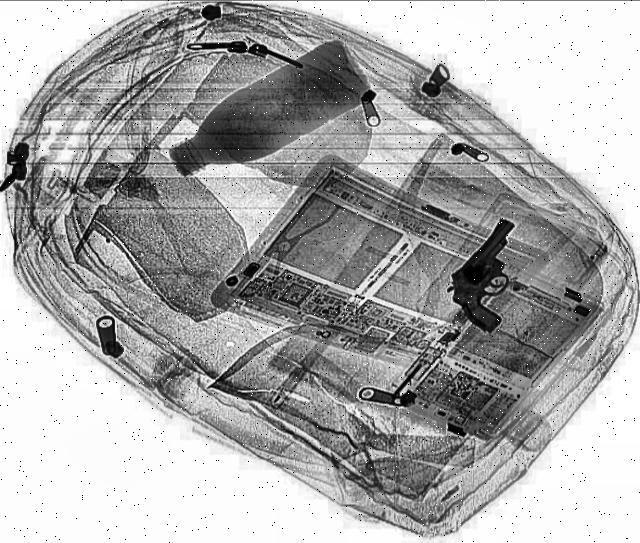Gun: (428, 219, 566, 337)
